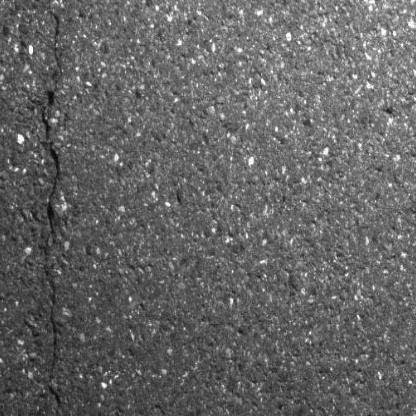Cracks: (39, 0, 67, 416)
